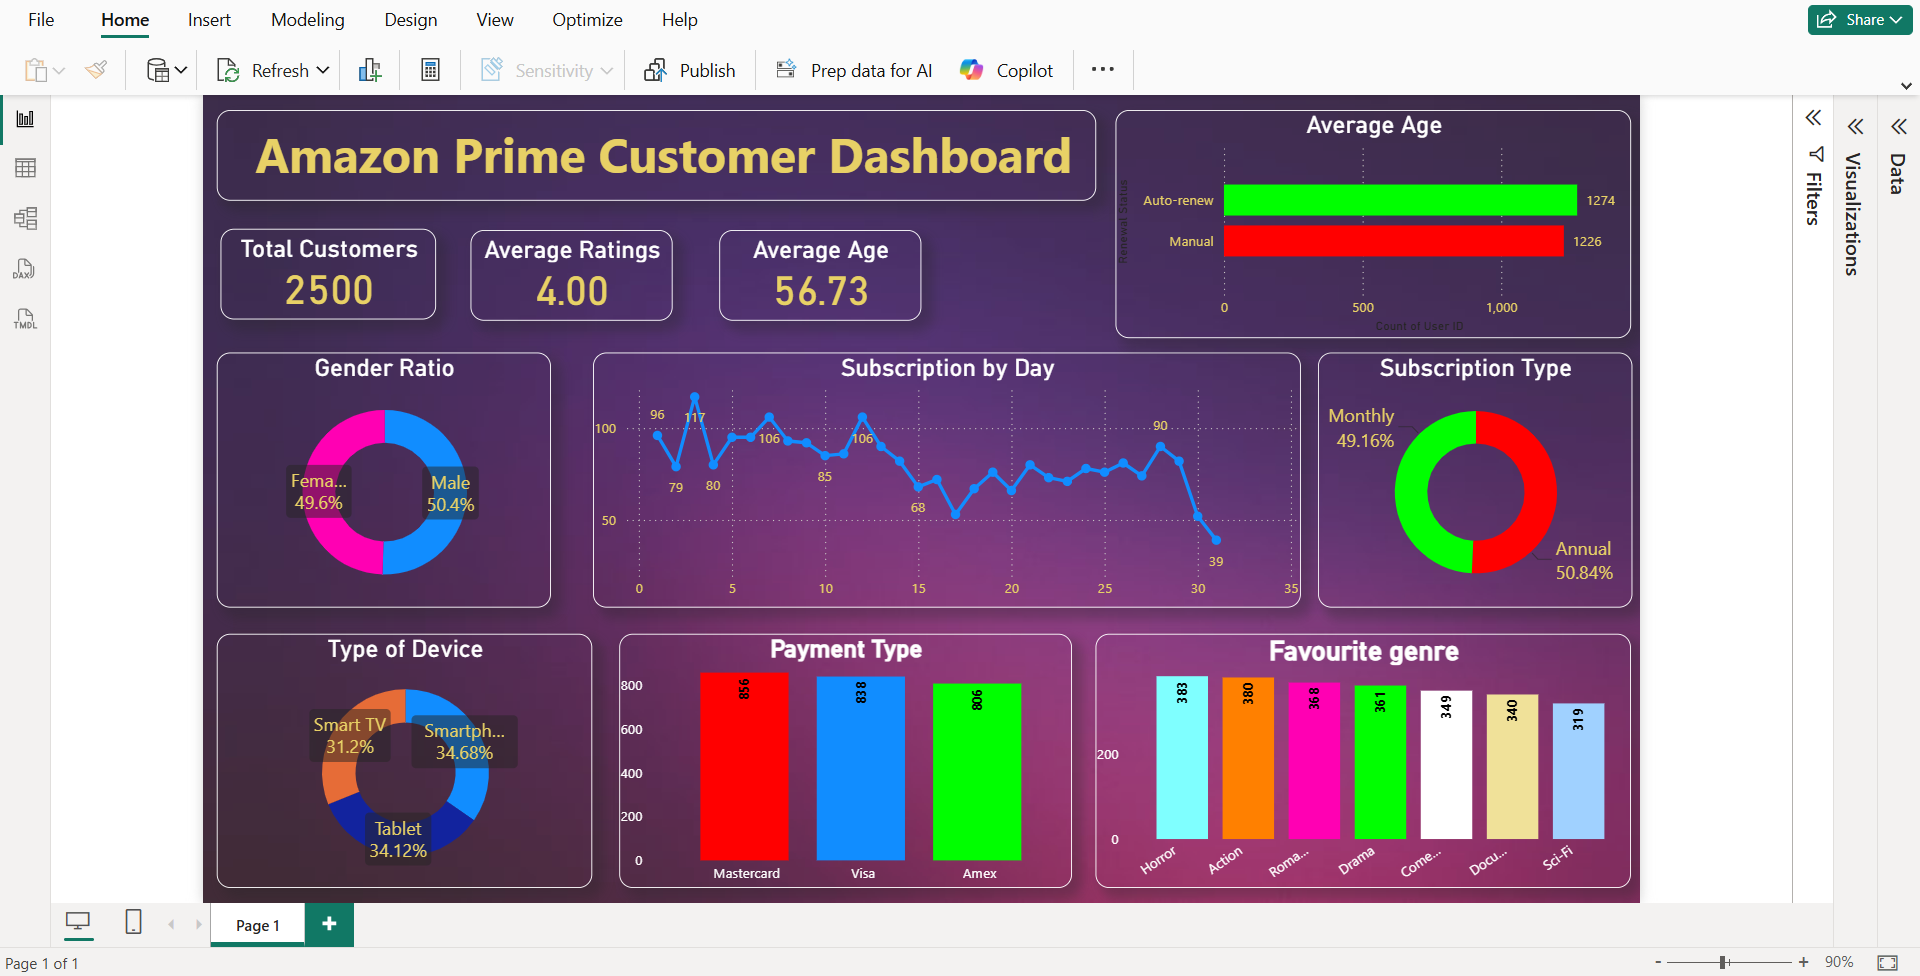

What the dashboard file says about the page in this screenshot:
{"tool":"powerbi","page":{"name":"Page 1","canvas":[1280,720],"ordinal":0},"visuals":[{"type":"textbox","box":[12.3,13.7,782.9,80.9],"z":0},{"type":"card","title":"Total Customers","fields":{"Values":["CountNonNull(amazon_prime_users.Name)"]},"box":[14.5,119,179.6,80.9],"z":1000},{"type":"donutChart","title":"Gender Ratio","fields":{"Category":["amazon_prime_users.Gender"],"Y":["CountNonNull(amazon_prime_users.Name)"]},"box":[12.3,229,297.5,227.6],"z":2000},{"type":"donutChart","title":"Type of Device","fields":{"Category":["amazon_prime_users.Devices Used"],"Y":["CountNonNull(amazon_prime_users.Name)"]},"box":[12.3,479.9,334.5,226.2],"z":3000},{"type":"columnChart","title":"Favourite genre","fields":{"Category":["amazon_prime_users.Favorite Genres"],"Y":["CountNonNull(amazon_prime_users.Name)"]},"box":[795.2,479.9,477.1,226.2],"z":4000},{"type":"columnChart","title":"Payment Type","fields":{"Category":["amazon_prime_users.Payment Information"],"Y":["CountNonNull(amazon_prime_users.Name)"]},"box":[370.2,479.9,403.1,226.2],"z":5000},{"type":"donutChart","title":"Subscription Type","fields":{"Category":["amazon_prime_users.Subscription Plan"],"Y":["CountNonNull(amazon_prime_users.Name)"]},"box":[992.6,229,279.7,227.6],"z":6000},{"type":"card","title":"Average Ratings","fields":{"Values":["Avg(amazon_prime_users.Feedback/Ratings)"]},"box":[206.5,120.4,179.6,80.9],"z":7000},{"type":"card","title":"Average Age","fields":{"Values":["Avg(amazon_prime_users.age)"]},"box":[401.2,119,179.6,80.9],"z":8000},{"type":"lineChart","title":"Subscription by Day","fields":{"Category":["amazon_prime_users.Membership Start Date.1.Variation.Date Hierarchy.Month","amazon_prime_users.Membership Start Date.1.Variation.Date Hierarchy.Day"],"Y":["CountNonNull(amazon_prime_users.Subscription Plan)"]},"box":[346.9,229,630.7,227.6],"z":9000},{"type":"barChart","title":"Average Age","fields":{"Category":["amazon_prime_users.Renewal Status"],"Y":["CountNonNull(amazon_prime_users.User ID)"]},"box":[813,13.7,459.3,202.9],"z":10000}]}

Visuals, with their boxes on the page's 1280x720 design canvas (x1, y1, x2, y2). These are canvas units, not pixel positions in the 1920x976 screenshot, which may show the page scaled, cropped or inside an application window:
textbox: 12, 14, 795, 95
"Total Customers" card: 14, 119, 194, 200
"Gender Ratio" donutChart: 12, 229, 310, 457
"Type of Device" donutChart: 12, 480, 347, 706
"Favourite genre" columnChart: 795, 480, 1272, 706
"Payment Type" columnChart: 370, 480, 773, 706
"Subscription Type" donutChart: 993, 229, 1272, 457
"Average Ratings" card: 206, 120, 386, 201
"Average Age" card: 401, 119, 581, 200
"Subscription by Day" lineChart: 347, 229, 978, 457
"Average Age" barChart: 813, 14, 1272, 217
